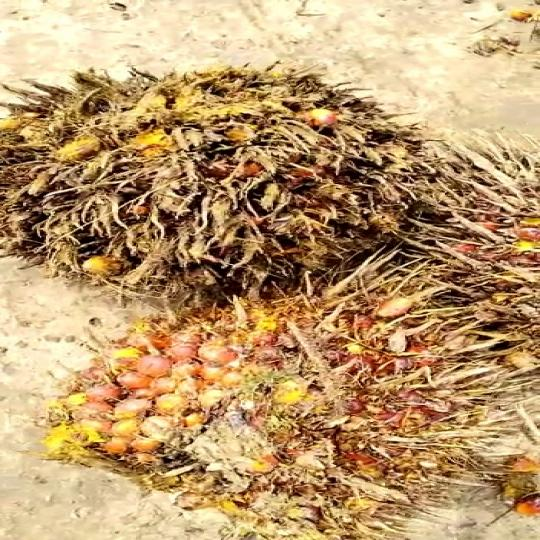terlalu masak: (32, 279, 502, 540), (0, 52, 464, 294)
